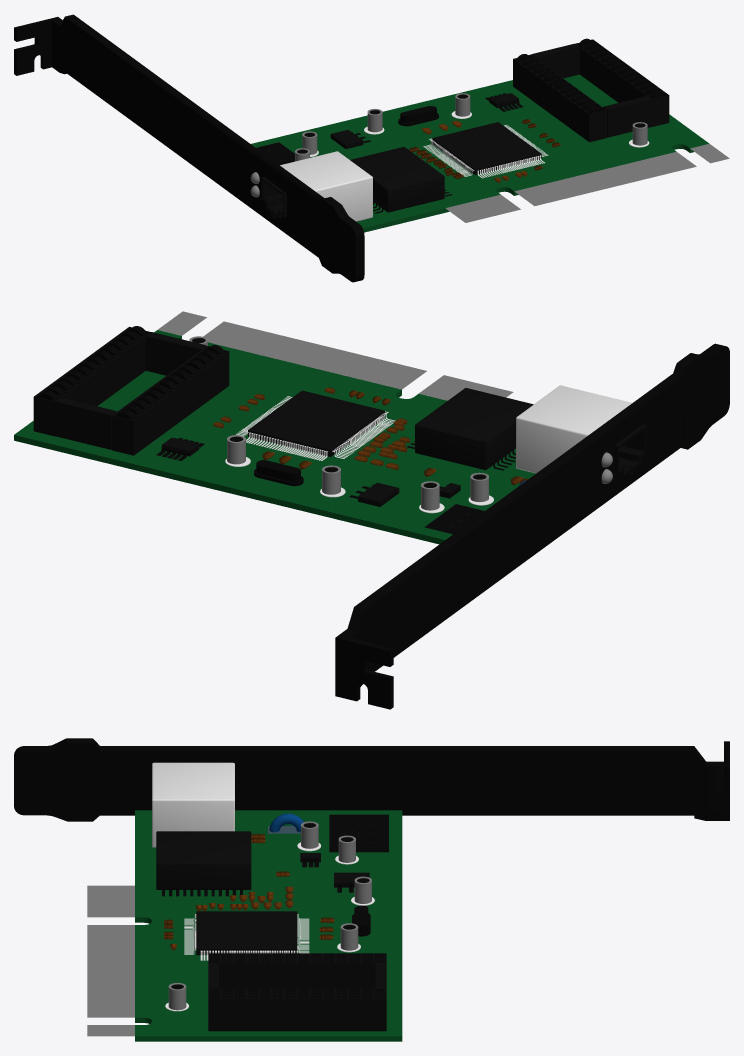
File: NETWORK CARD.FBX
3 renders of one model, top to bottom at view 1: azimuth 30°, elevation 25°; view 2: azimuth 150°, elevation 25°; view 3: azimuth 270°, elevation 25°, orthographic. The views are drawn at different scales.
Parts seen in each view (by area): view 1: Box002, Box003, Plane005, Box004, ChamferBox002, ChamferBox001, Box005, Box008, Box006, Box007, Line004, Line007 (+3 smaller); view 2: Box002, Box003, Plane005, ChamferBox002, Box004, ChamferBox001, Box005, Box008, Box007, Box006, Line004, Plane003 (+4 smaller); view 3: Box002, Box003, Box005, Plane005, Box004, ChamferBox001, ChamferBox002, Box008, Plane003, Object008, Cylinder001.
Part boxes in pixels (x1,y1,x2,y2): Box002: (14, 14, 364, 282); Box003: (251, 74, 709, 232); Plane005: (445, 144, 729, 222); Box004: (513, 54, 606, 142); ChamferBox002: (350, 146, 444, 212); ChamferBox001: (280, 151, 372, 221); Box005: (576, 38, 669, 126); Box008: (432, 122, 541, 175); Box006: (603, 96, 651, 137); Box007: (531, 43, 579, 78); Line004: (261, 177, 286, 218); Line007: (423, 140, 474, 176); Box002: (335, 343, 729, 709); Box003: (14, 330, 535, 544); Plane005: (158, 311, 513, 400); ChamferBox002: (415, 388, 533, 470); Box004: (111, 345, 229, 455); ChamferBox001: (516, 385, 632, 473); Box005: (33, 326, 150, 436); Box008: (248, 390, 384, 456); Box007: (55, 397, 116, 449); Box006: (145, 332, 206, 375); Line004: (614, 424, 646, 477); Plane003: (424, 504, 484, 534); Box002: (14, 738, 729, 821); Box003: (135, 810, 402, 1041); Box005: (208, 989, 386, 1031); Plane005: (87, 885, 134, 1036); Box004: (208, 953, 386, 988); ChamferBox001: (152, 762, 234, 847); ChamferBox002: (156, 831, 251, 889); Box008: (196, 911, 297, 955); Plane003: (329, 814, 388, 852); Object008: (162, 885, 242, 896); Cylinder001: (340, 923, 358, 950).
Size of the model in its own units: 10.01 by 1.56 by 12.05.
